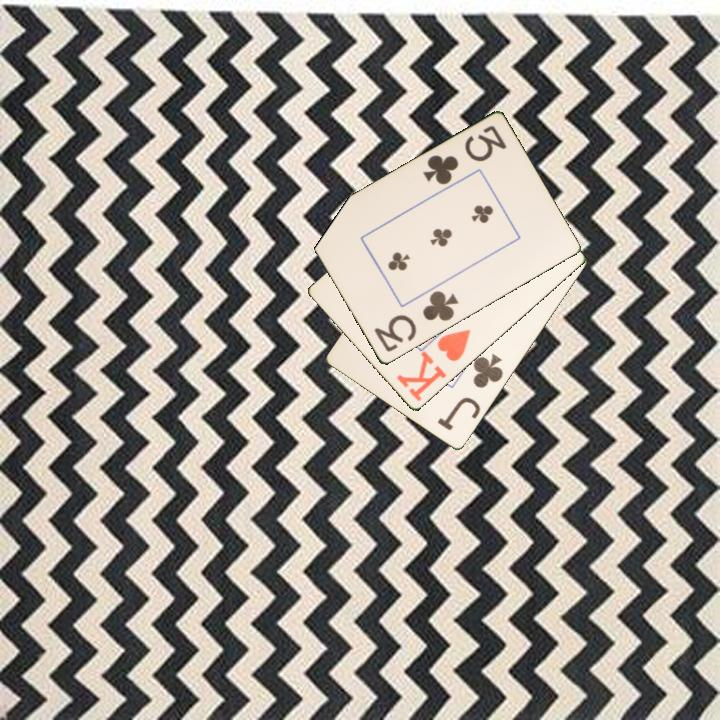3c: (370, 287, 461, 355), (419, 122, 510, 188)
Jc: (434, 351, 506, 434)
Kh: (393, 326, 474, 405)
